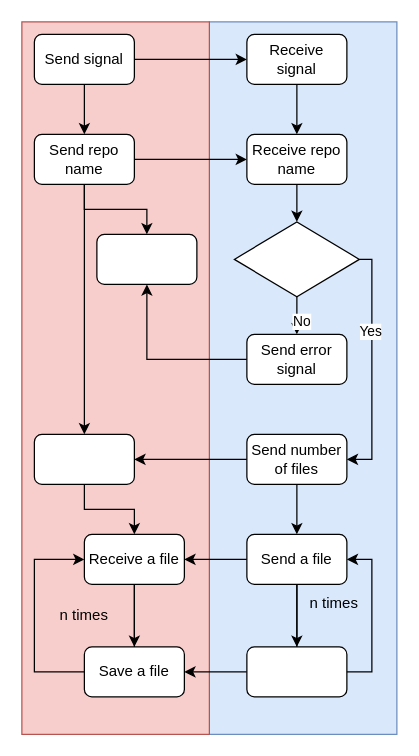
This 419x756 diagram has some shape labels left out. The centre of each missing label's shape, as x and y in pixels:
Close: the point at 146,258
Is repo exist?: the point at 296,259
Receive number of files: the point at 83,458
Send DONE: the point at 296,671
